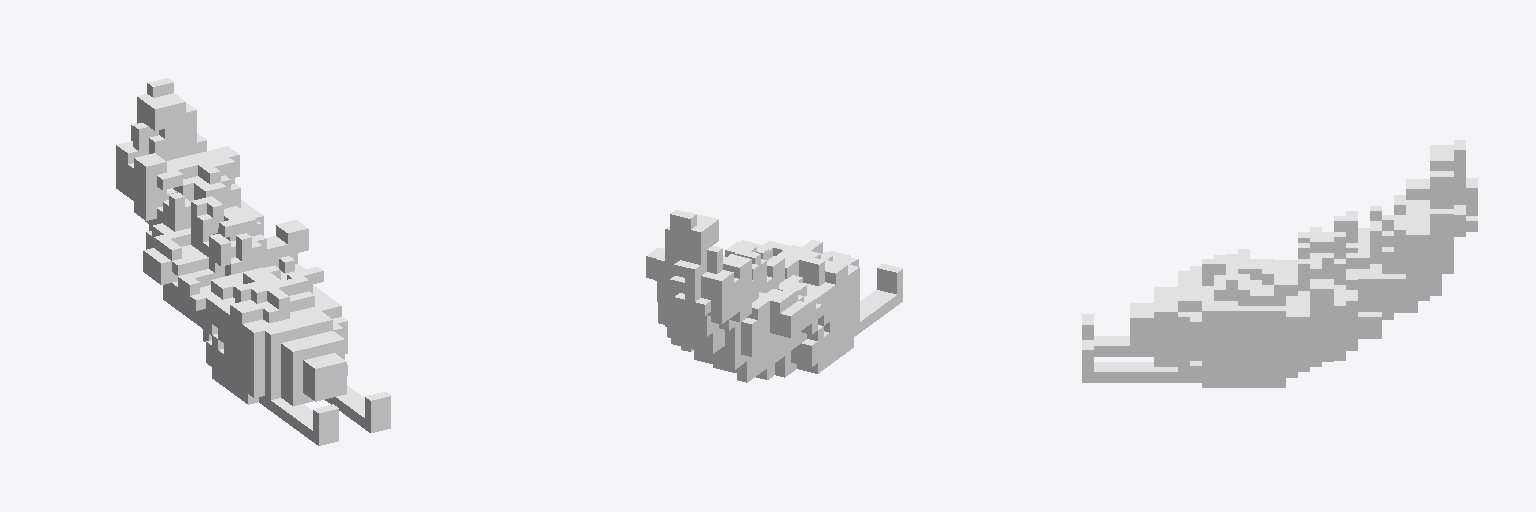
Rendered from banana2.obj.
The picture shows the model from 3 angles: view 1: azimuth 30°, elevation 25°; view 2: azimuth 150°, elevation 25°; view 3: azimuth 270°, elevation 25°; orthographic projection.
Parts seen in each view (by area): view 1: object 1; view 2: object 1; view 3: object 1.
Boxes of the visible parts, x1,y1,x2,y2 form: object 1: [116, 78, 390, 445]; object 1: [646, 210, 902, 382]; object 1: [1082, 140, 1477, 387].
Bounding box in the file's own units: 1.3 × 2 × 3.3.